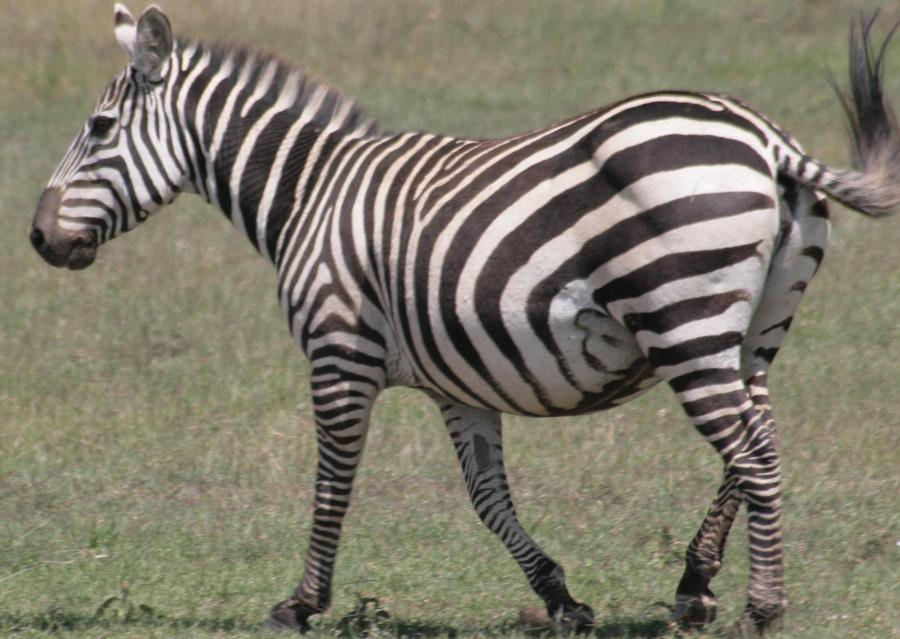zebra_plains: (302, 112, 739, 393)
